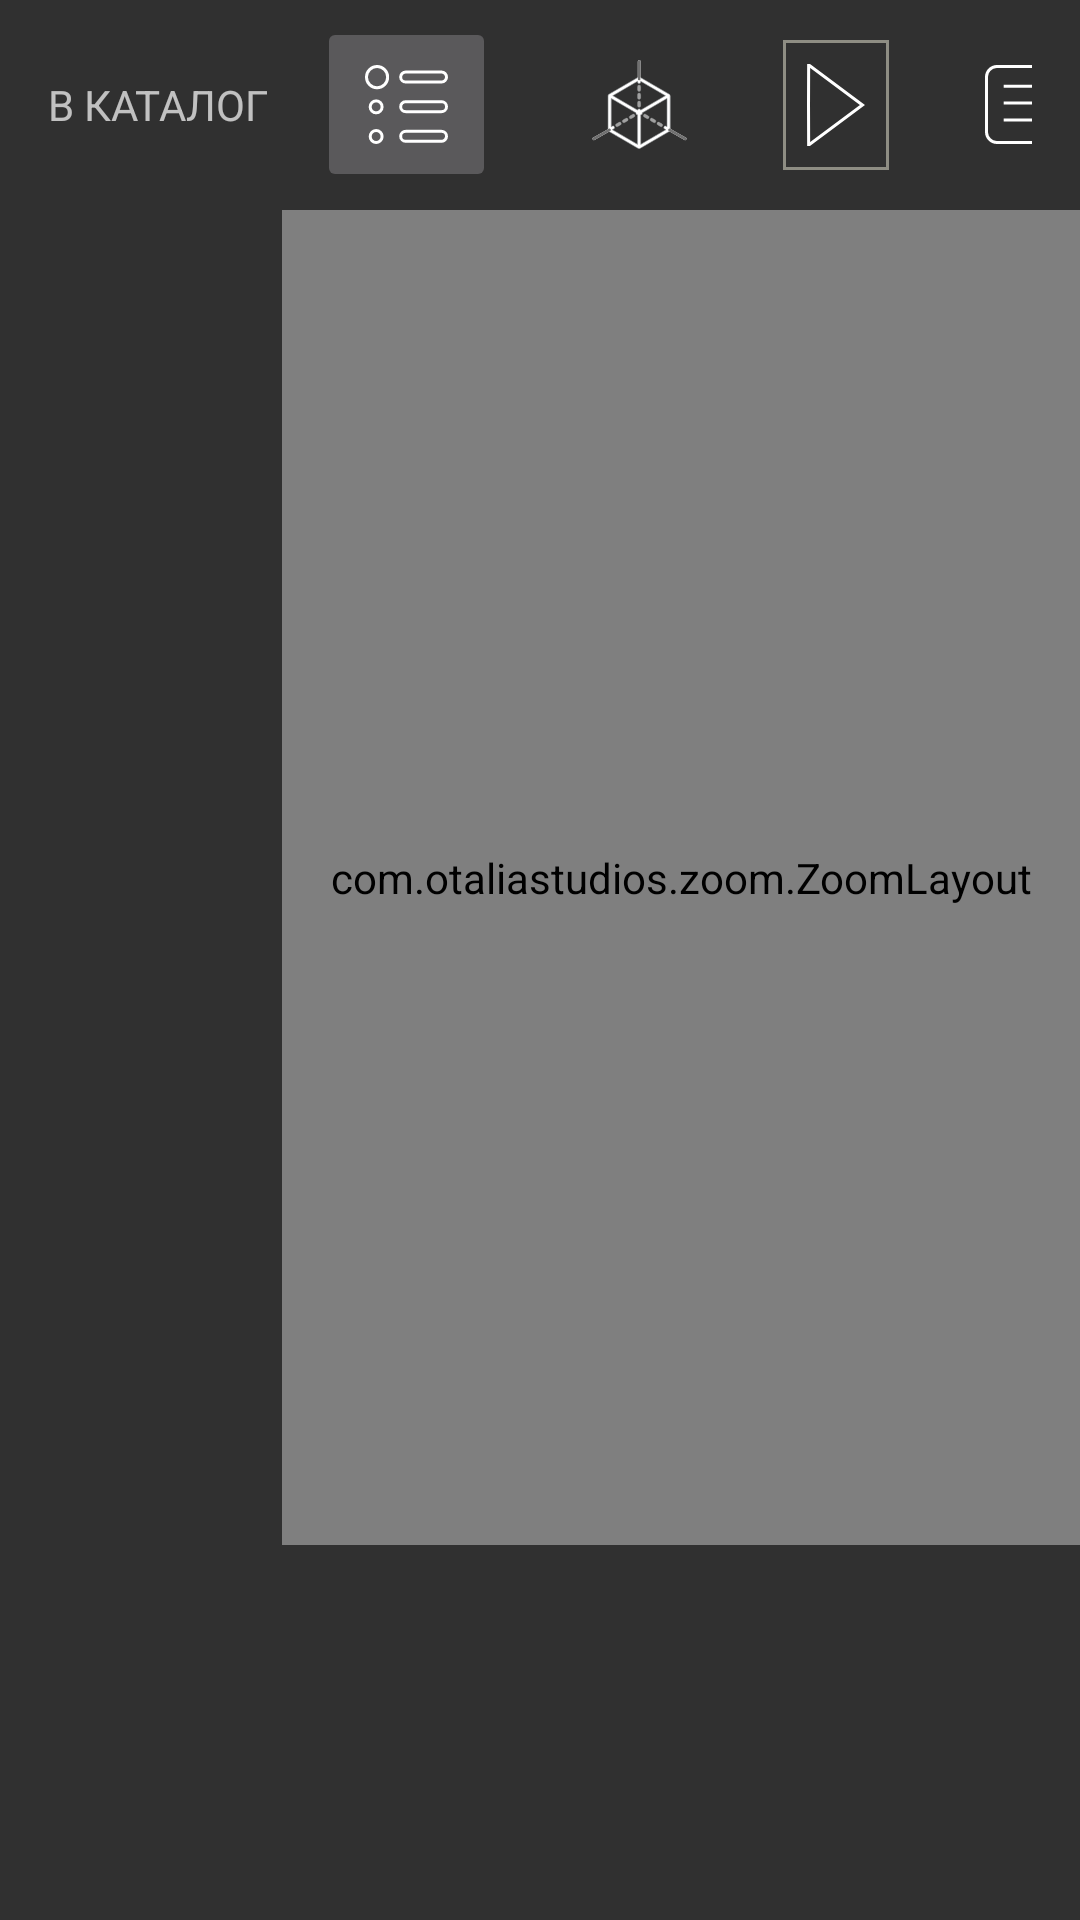

Screen size 1080 × 1920. Icon name, then its center in pixels as [x,y]:
cube 3d: [639,104]
list part: [406,104]
run play: [836,105]
